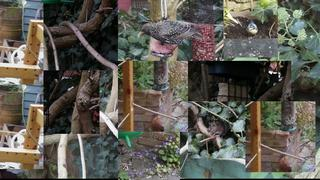blue tit: (246, 20, 258, 38)
mouse: (207, 121, 226, 139)
starling: (138, 20, 204, 45)
